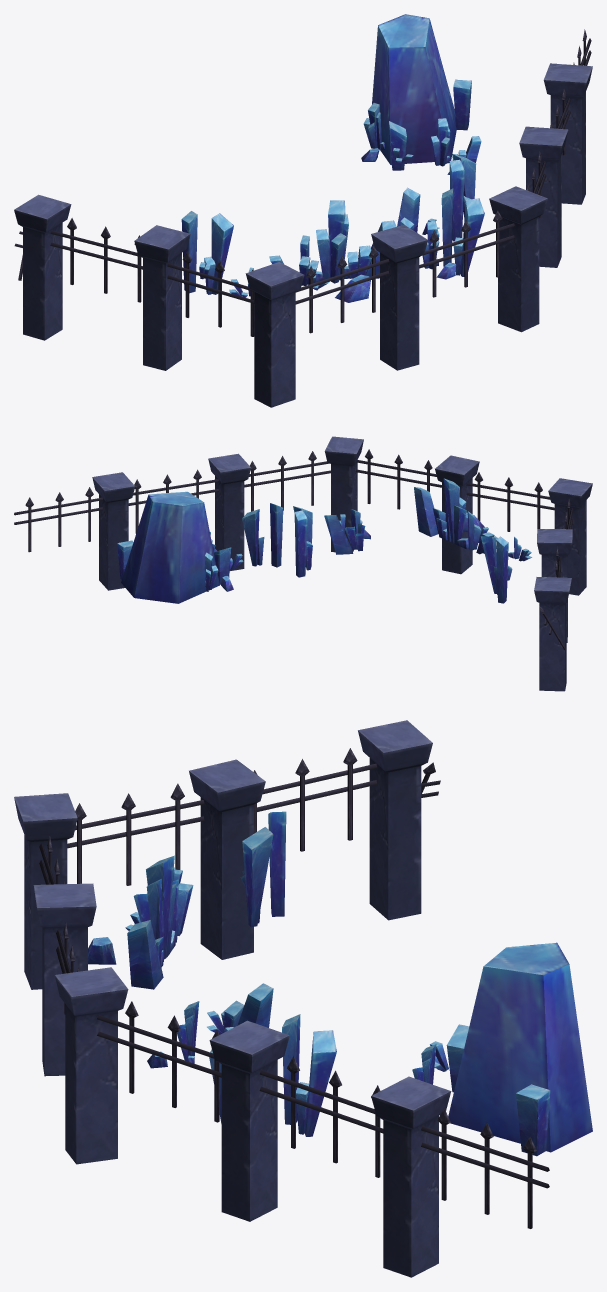
Rendered from Area14_10_y.FBX.
3 renders of one model, top to bottom at view 1: azimuth 30°, elevation 25°; view 2: azimuth 150°, elevation 25°; view 3: azimuth 270°, elevation 25°, orthographic. The views are drawn at different scales.
Parts seen in each view (by area): view 1: Area14_10_y; view 2: Area14_10_y; view 3: Area14_10_y.
Part boxes in pixels (x1=…): Area14_10_y: x1=14, y1=14, x2=592, y2=407; Area14_10_y: x1=14, y1=436, x2=592, y2=691; Area14_10_y: x1=14, y1=720, x2=592, y2=1277.
Size of the model in its own units: 4243 by 1082 by 2460.
